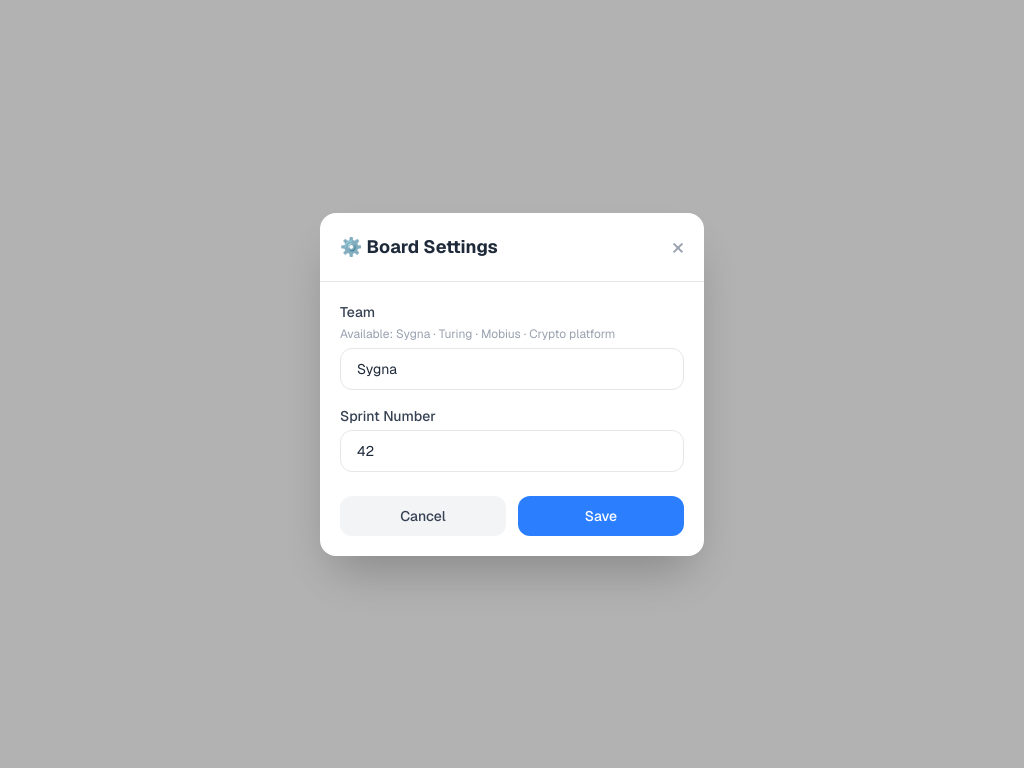
it: BoardSettingsModal › shows validation error for invalid team name
Replace the text in the field showing "Sygna" with "InvalidTeam": (512, 368) left=340, top=348, right=684, bottom=390
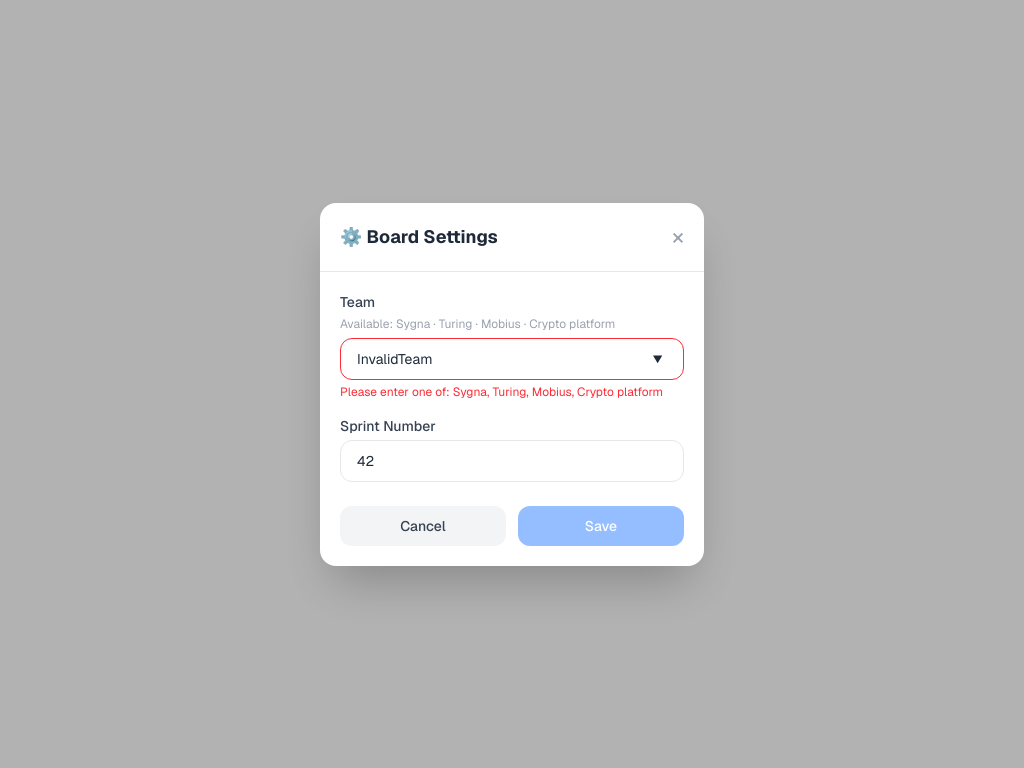
Expected: the text "Please enter one of: Sygna, Turing, Mobius, Crypto platform" is shown, left=340, top=384, right=684, bottom=400
